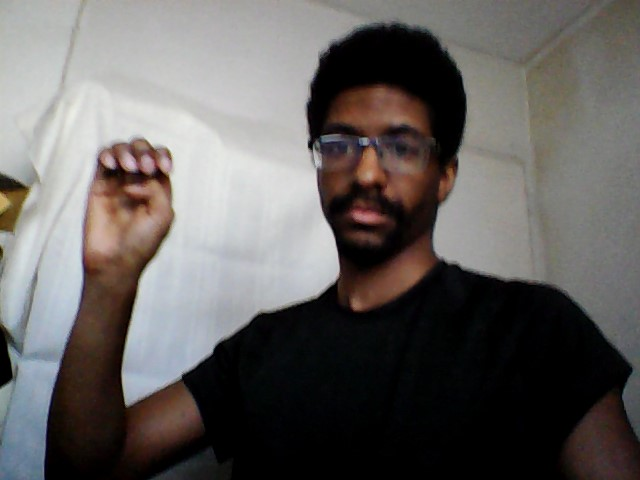e: (76, 132, 179, 278)
